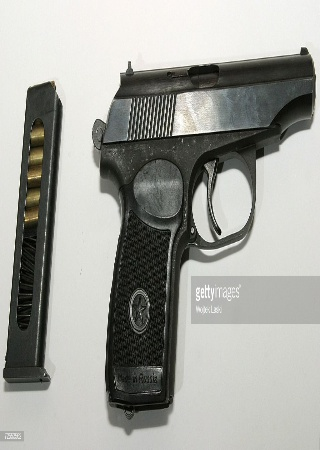handgun: (92, 48, 320, 412)
